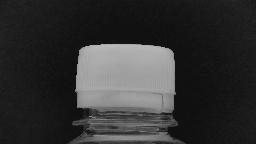Broken Ring: (145, 88, 173, 112)
Loose Cap: (68, 83, 184, 131)
